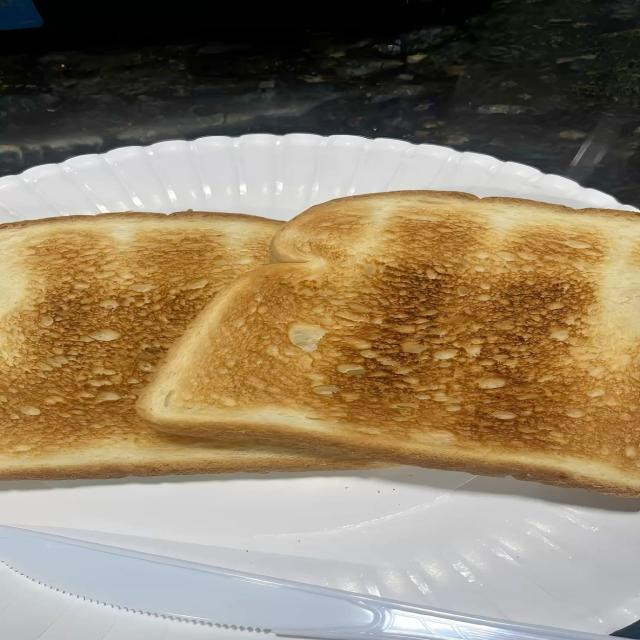toast bread: (139, 190, 639, 496), (0, 210, 381, 480)
